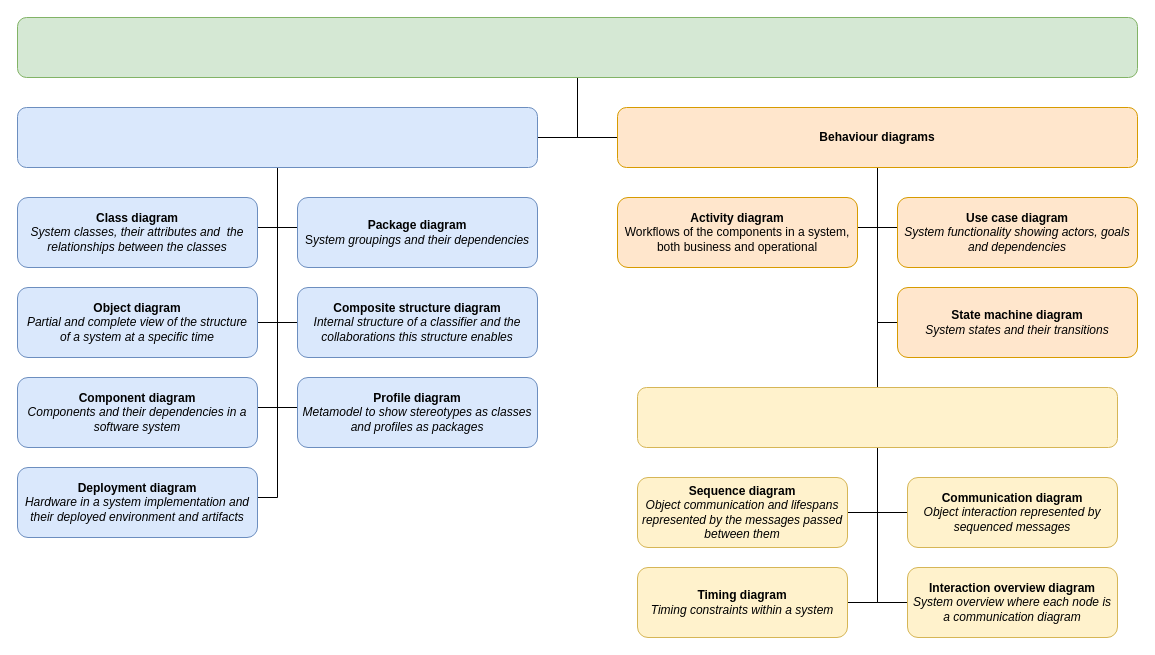
Some shapes in this 1155 by 655 pixel diagram are drawn without their labels. The shapes that lost their labels are listed below. From the top down, each one's centre as x and y in pixels, then its label:
At (x=577, y=47): "UML diagrams".
At (x=277, y=137): "Structure diagrams".
At (x=877, y=417): "Interaction diagrams".
